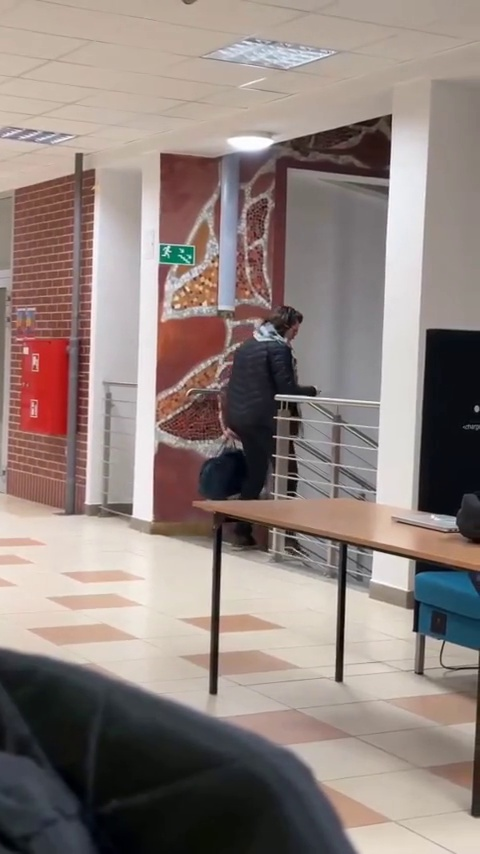no vest: (219, 303, 317, 553)
